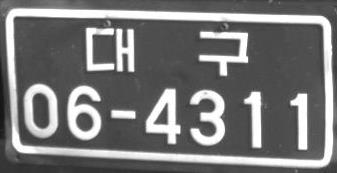0: (22, 82, 59, 139)
1: (282, 91, 316, 151), (238, 90, 273, 148)
3: (189, 88, 225, 146)
4: (145, 86, 180, 144)
6: (66, 84, 101, 141)
대구_D: (85, 25, 249, 76)
